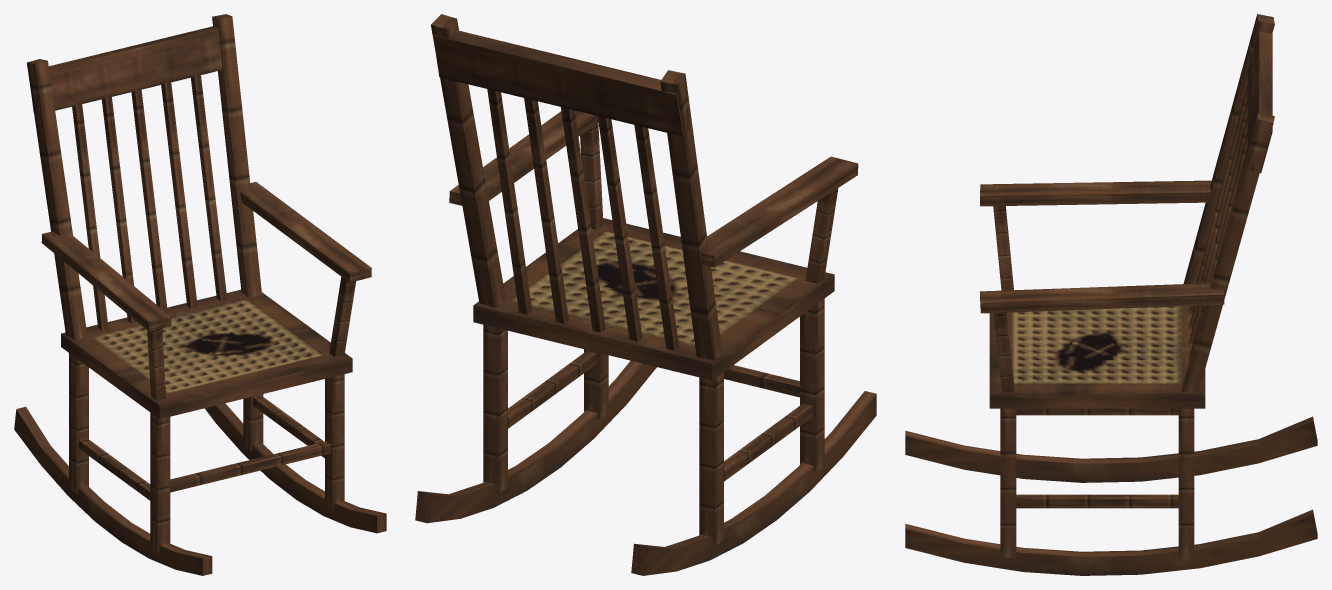
File: rocking_chair.obj
The picture shows the model from 3 angles, left to right: view 1: azimuth 30°, elevation 25°; view 2: azimuth 150°, elevation 25°; view 3: azimuth 270°, elevation 25°; orthographic projection. The views are drawn at different scales.
Visible parts, largest first — view 1: rocking_chair; view 2: rocking_chair; view 3: rocking_chair.
Boxes of the visible parts, x1,y1,x2,y2 form: rocking_chair: (14,14,386,575); rocking_chair: (415,14,876,575); rocking_chair: (905,14,1317,575).
Size of the model in its own units: 0.6005 by 1.08 by 0.88.
1 material, 1 textured.
